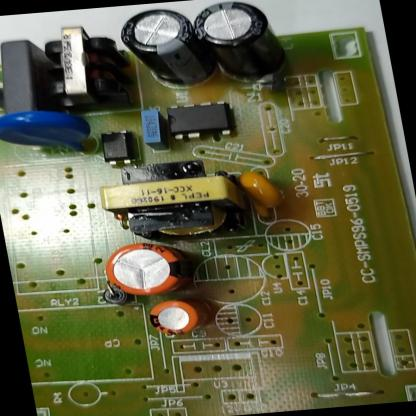Cap1: (95, 237, 202, 303)
Cap2: (131, 292, 216, 345)
Cap3: (113, 1, 218, 91)
Cap4: (187, 0, 296, 94)
MOSFET: (152, 96, 244, 150)
Mov: (0, 103, 112, 164)
Resistor: (0, 75, 12, 110)
Transformer: (91, 156, 251, 253), (28, 17, 149, 122)
